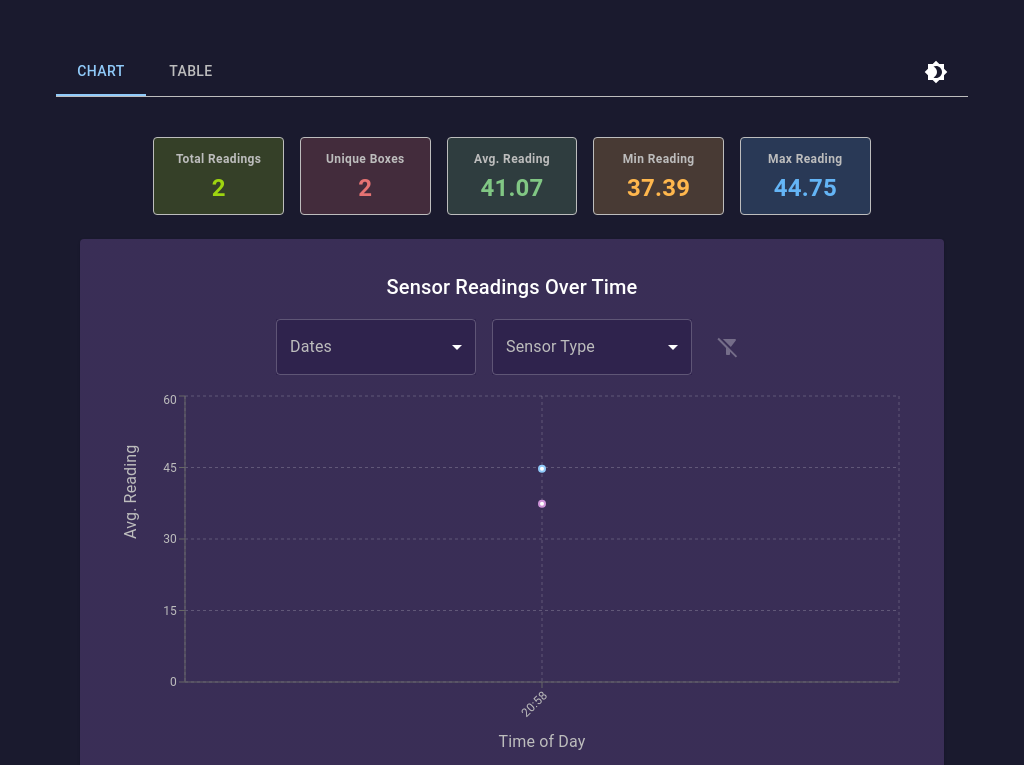
Test: App Component › should switch tabs and render correct content
The width and height of the screenshot is (1024, 765).
Check: the heading "Sensor Readings Over Time" is shown, box left=387, top=275, right=637, bottom=299
Note: Click Table tab
What coordinates should you click on to do the following:
click the tab "Table"
I would click on:
 (191, 72)
Its box is left=146, top=48, right=236, bottom=96.
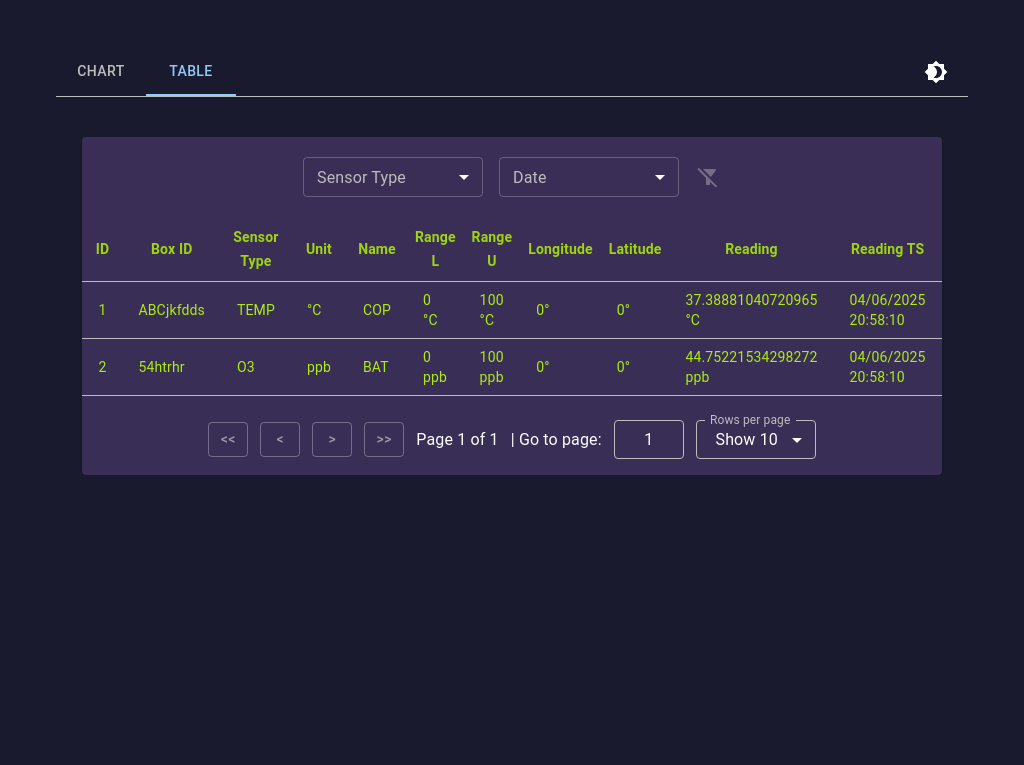
Check: the column heading "Sensor Type" is shown, box left=221, top=217, right=291, bottom=282
Check: the heading "Sensor Readings Over Time" is gone
Check: the table is shown, box left=82, top=217, right=942, bottom=396
